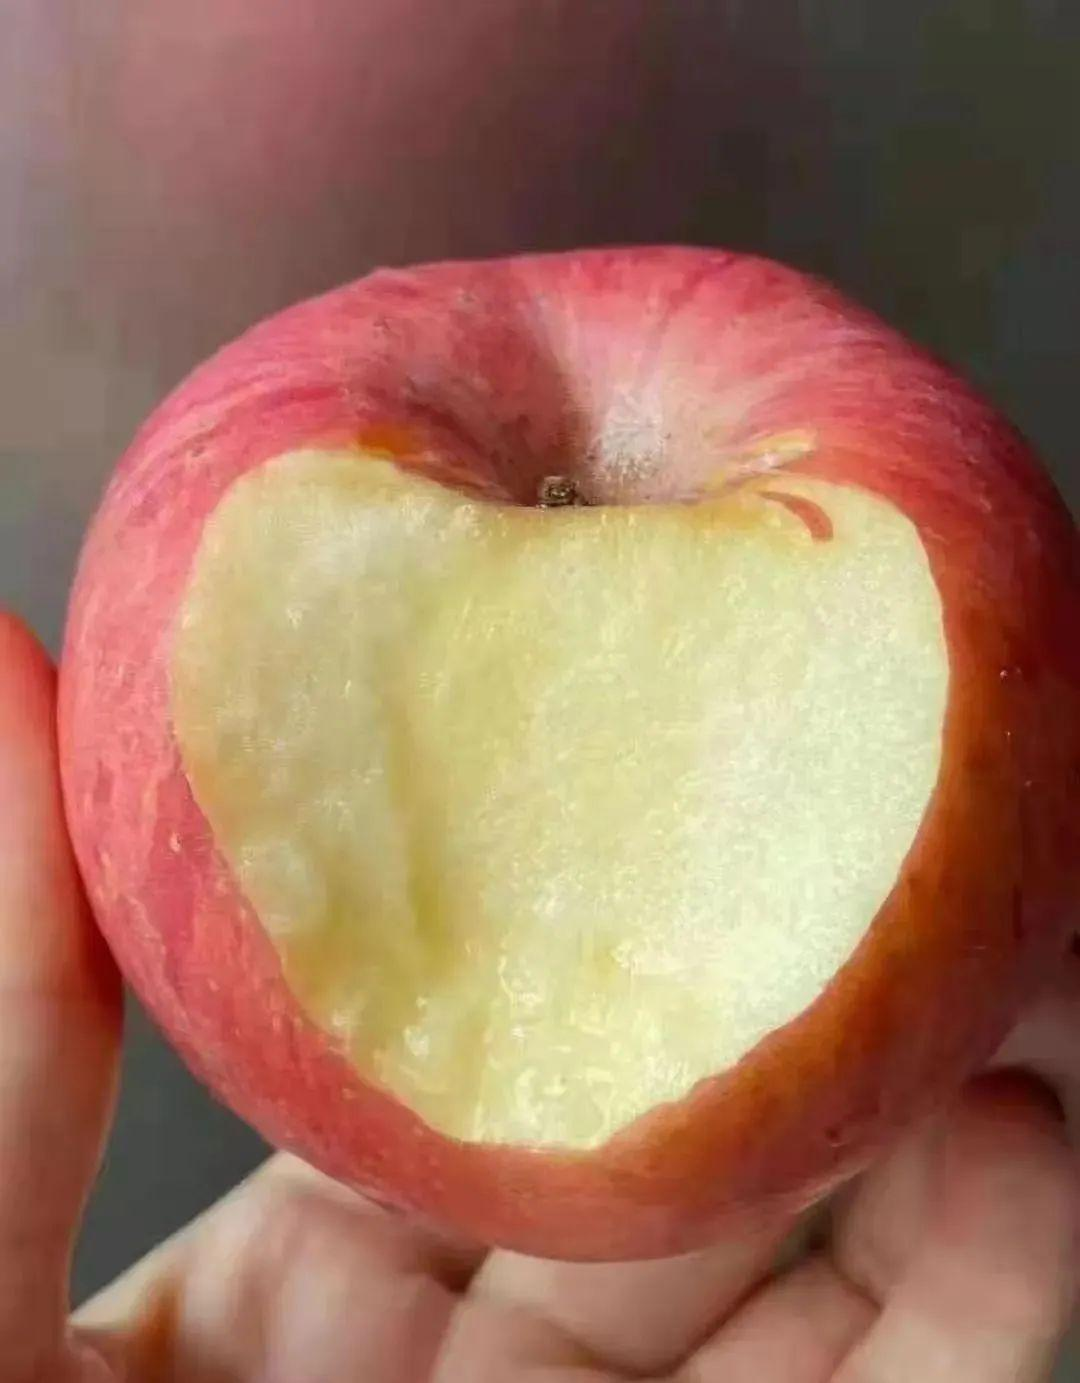apple: (42, 244, 1079, 1268)
